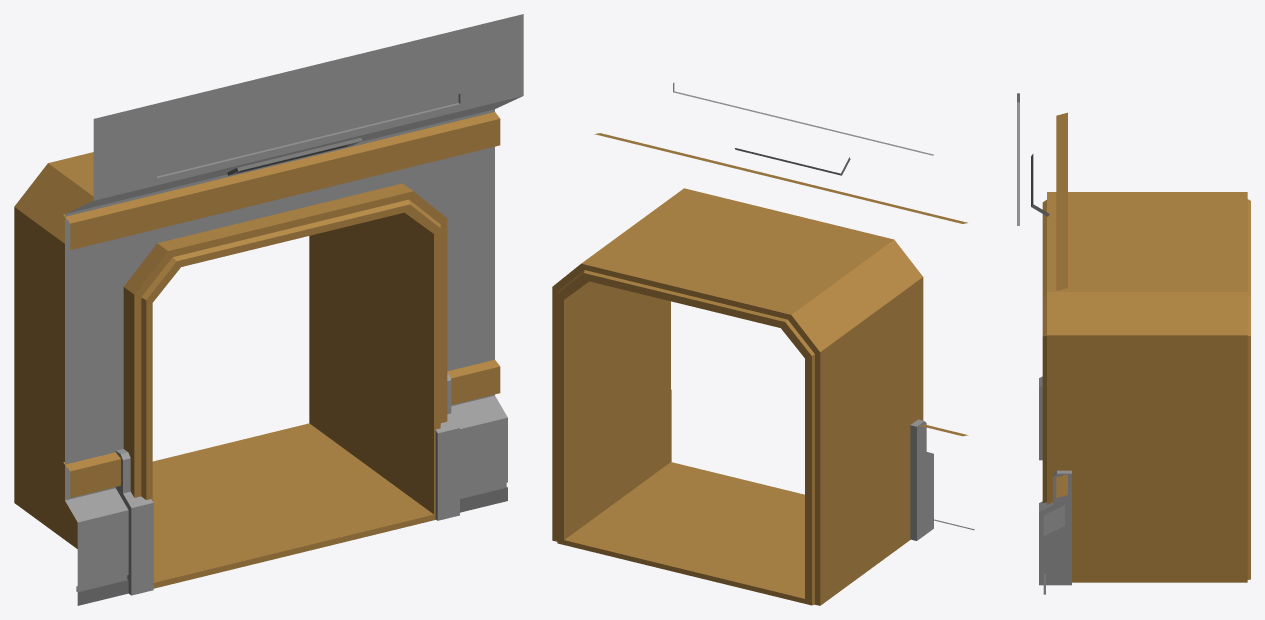
File: DoorDoubleLong_Wall_SideA.glb
The picture shows the model from 3 angles, left to right: view 1: azimuth 30°, elevation 25°; view 2: azimuth 150°, elevation 25°; view 3: azimuth 270°, elevation 25°; orthographic projection. The views are drawn at different scales.
Parts seen in each view (by area): view 1: DoorDoubleLong_Wall_SideA_Plane.312; view 2: DoorDoubleLong_Wall_SideA_Plane.312; view 3: DoorDoubleLong_Wall_SideA_Plane.312.
Boxes of the visible parts, x1,y1,x2,y2 form: DoorDoubleLong_Wall_SideA_Plane.312: [14, 14, 523, 605]; DoorDoubleLong_Wall_SideA_Plane.312: [552, 82, 974, 605]; DoorDoubleLong_Wall_SideA_Plane.312: [1017, 93, 1250, 594].
Bounding box in the file's own units: 4 × 4.44 × 2.25.
